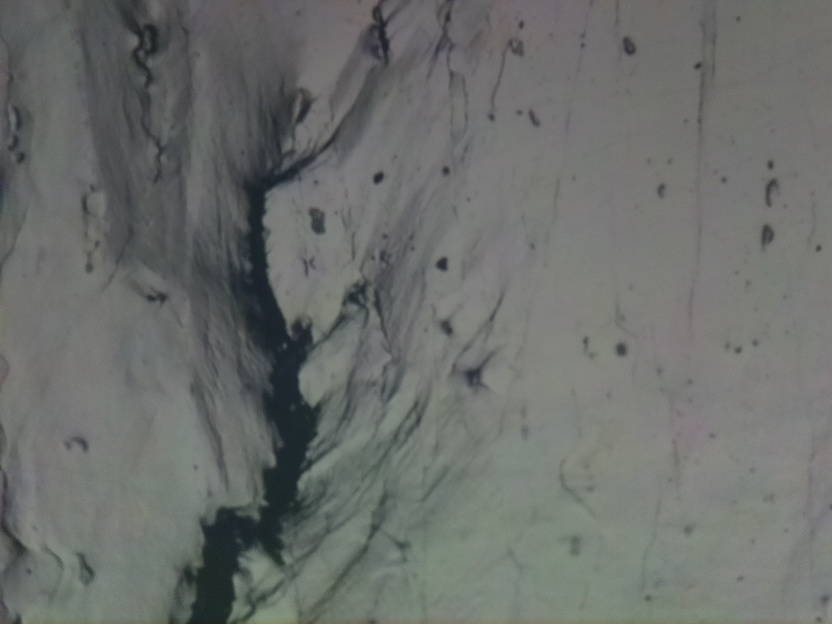crack: (189, 96, 349, 624)
